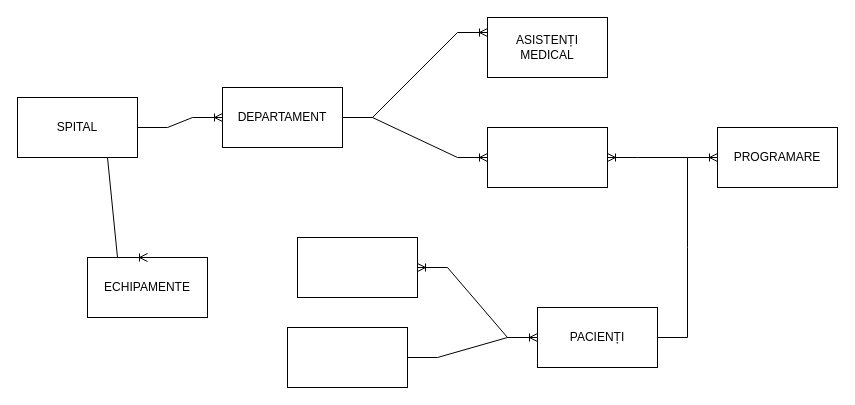
The diagram is 855 pixels wide and 405 high, and some of its shapes have lost their labels. The shapes that lost their labels are listed below. From the top down, each one's centre as x and y in pixels, then its label:
the point at 547,157: DOCTOR
the point at 357,267: CAMERĂ
the point at 347,357: INTERNARE
